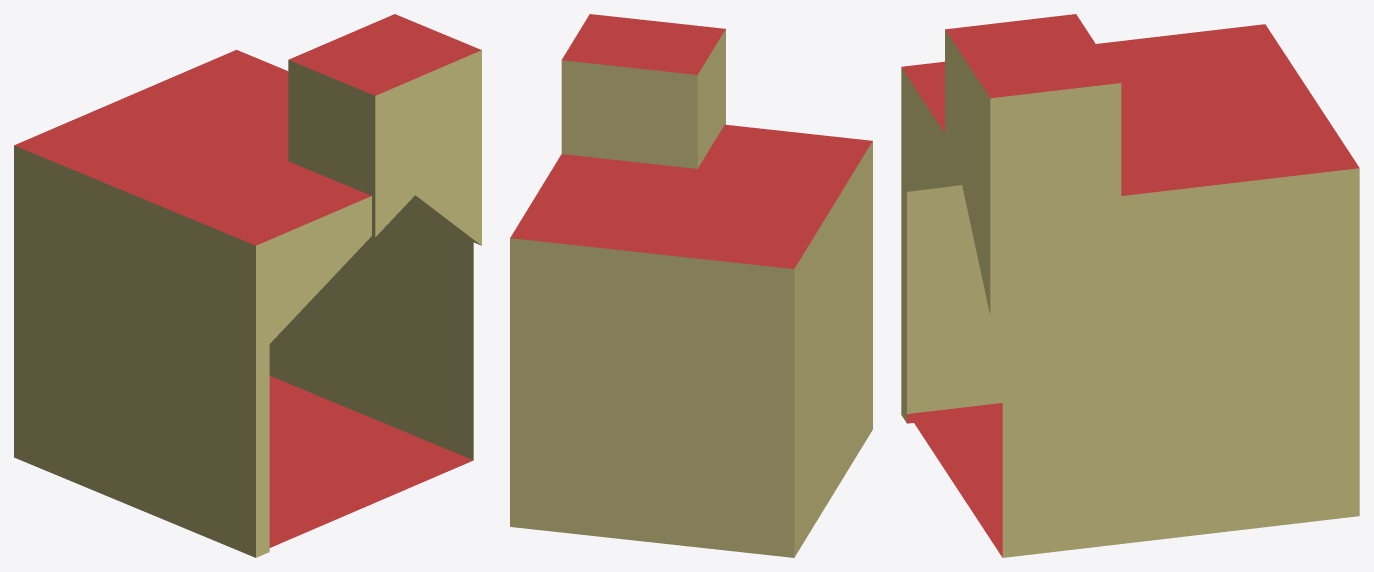
3 renders of one model, left to right at view 1: azimuth 30°, elevation 25°; view 2: azimuth 150°, elevation 25°; view 3: azimuth 270°, elevation 25°, orthographic. The views are drawn at different scales.
Size of the model in its own units: 10.17 by 10.53 by 11.68.
